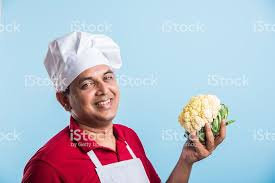Indian_Male: (62, 71, 130, 132)
